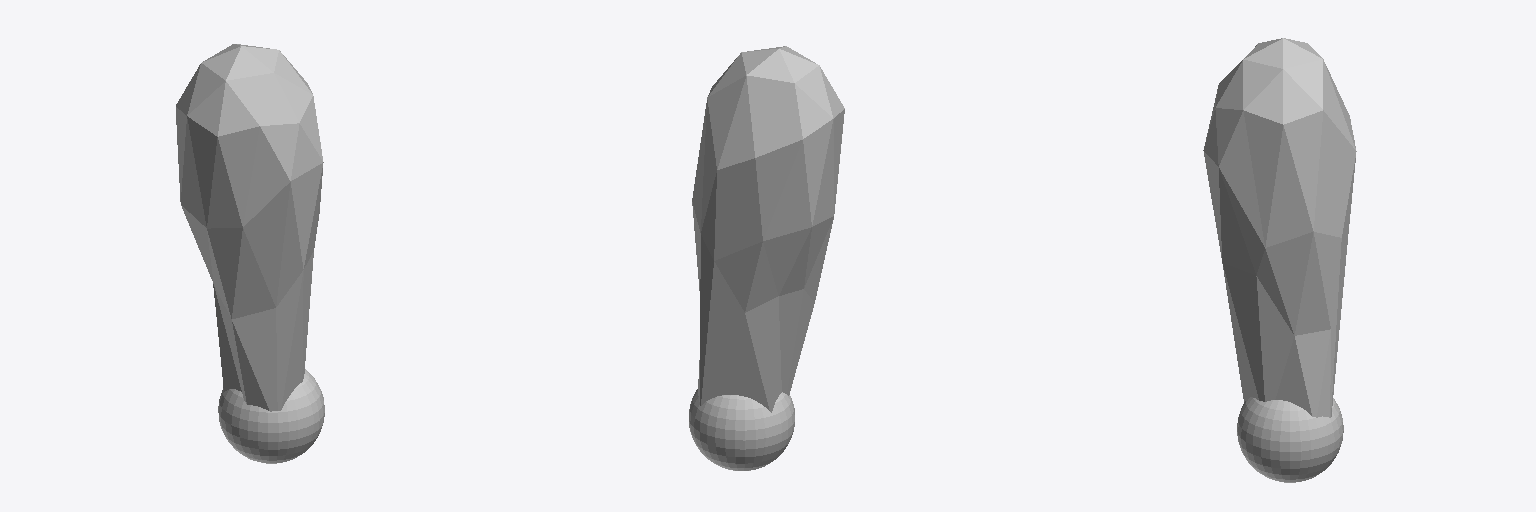
Rendered from thigh.obj.
The picture shows the model from 3 angles: view 1: azimuth 30°, elevation 25°; view 2: azimuth 150°, elevation 25°; view 3: azimuth 270°, elevation 25°; orthographic projection.
Visible parts, largest first — view 1: Esfera_icosaédrica.005_Esfera_icosaédrica.012, Esfera_UV.001_Esfera_UV.003; view 2: Esfera_icosaédrica.005_Esfera_icosaédrica.012, Esfera_UV.001_Esfera_UV.003; view 3: Esfera_icosaédrica.005_Esfera_icosaédrica.012, Esfera_UV.001_Esfera_UV.003.
Boxes of the visible parts, x1,y1,x2,y2 form: Esfera_icosaédrica.005_Esfera_icosaédrica.012: [176, 44, 323, 411]; Esfera_UV.001_Esfera_UV.003: [218, 369, 324, 463]; Esfera_icosaédrica.005_Esfera_icosaédrica.012: [692, 46, 844, 412]; Esfera_UV.001_Esfera_UV.003: [689, 389, 794, 470]; Esfera_icosaédrica.005_Esfera_icosaédrica.012: [1203, 38, 1356, 417]; Esfera_UV.001_Esfera_UV.003: [1237, 397, 1343, 482].
Size of the model in its own units: 0.9698 by 2.92 by 0.957.